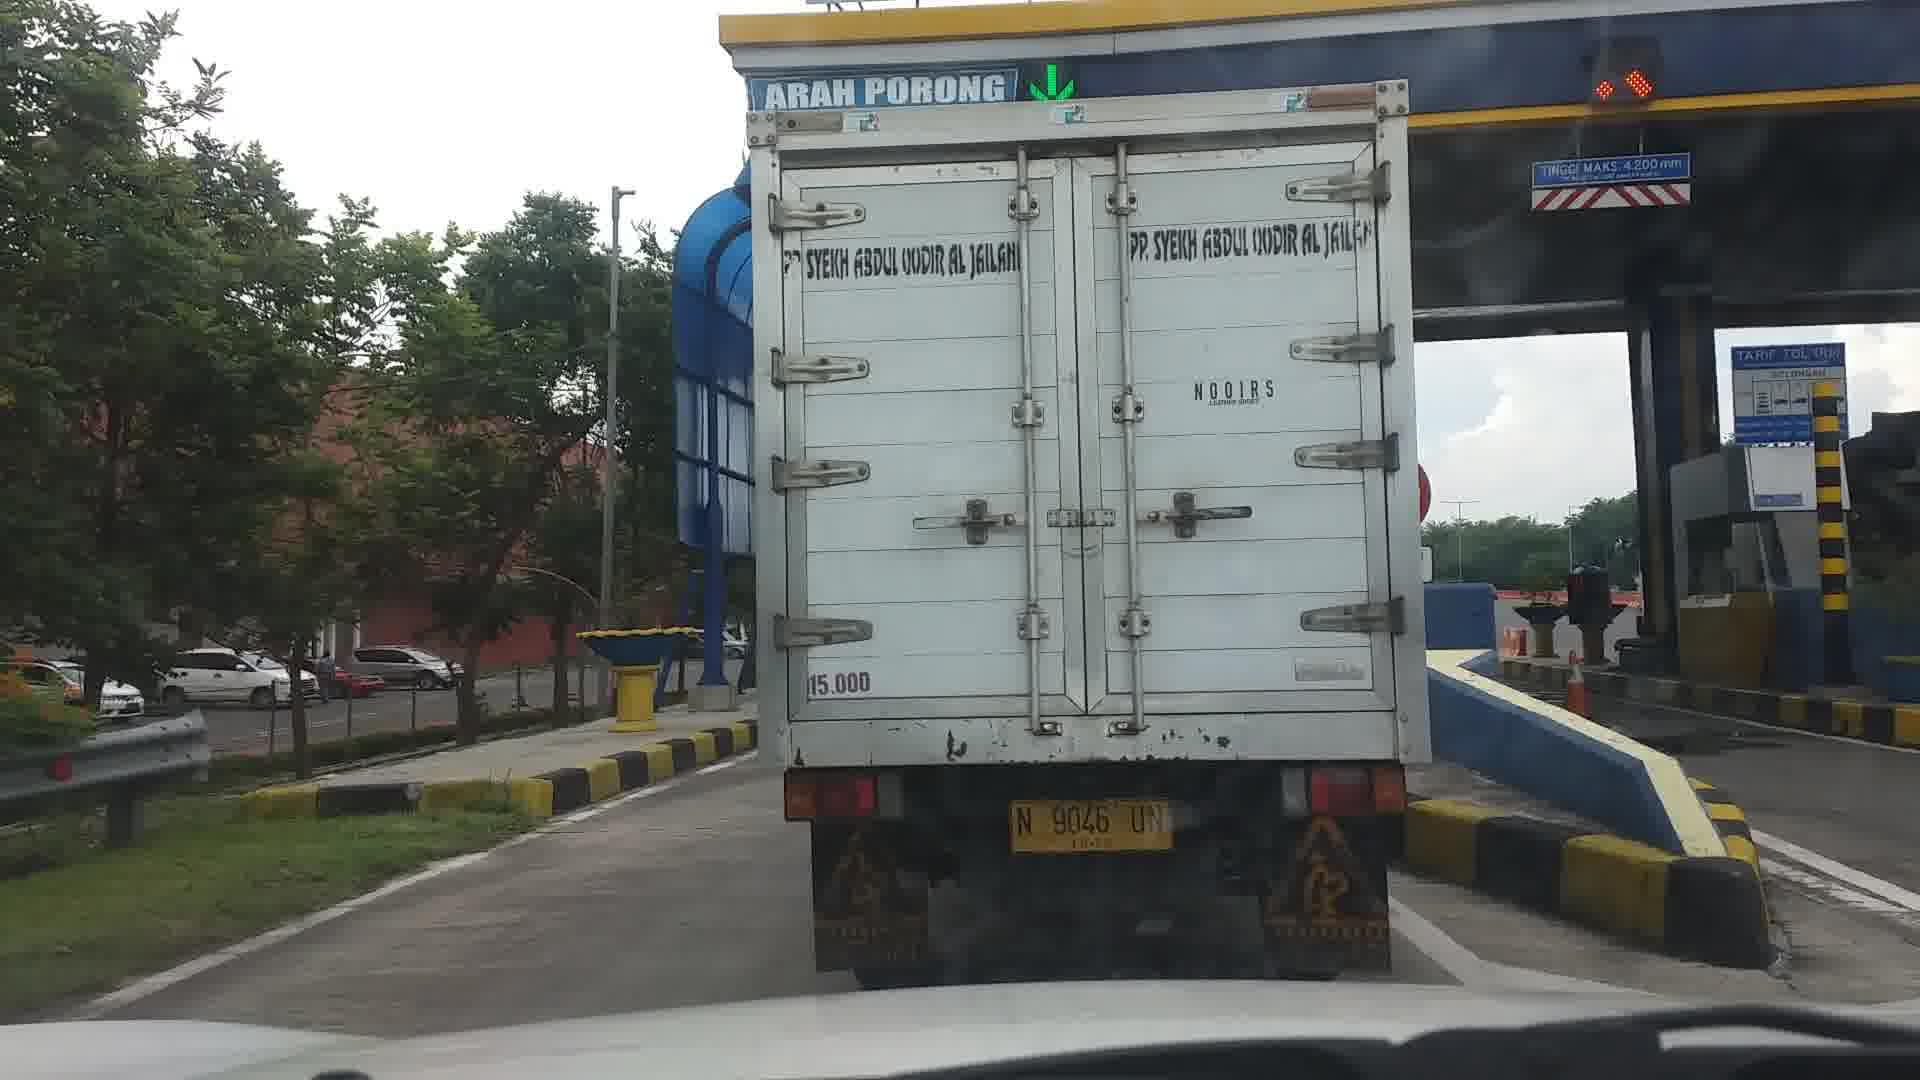plate_positive: (1009, 800, 1171, 852)
